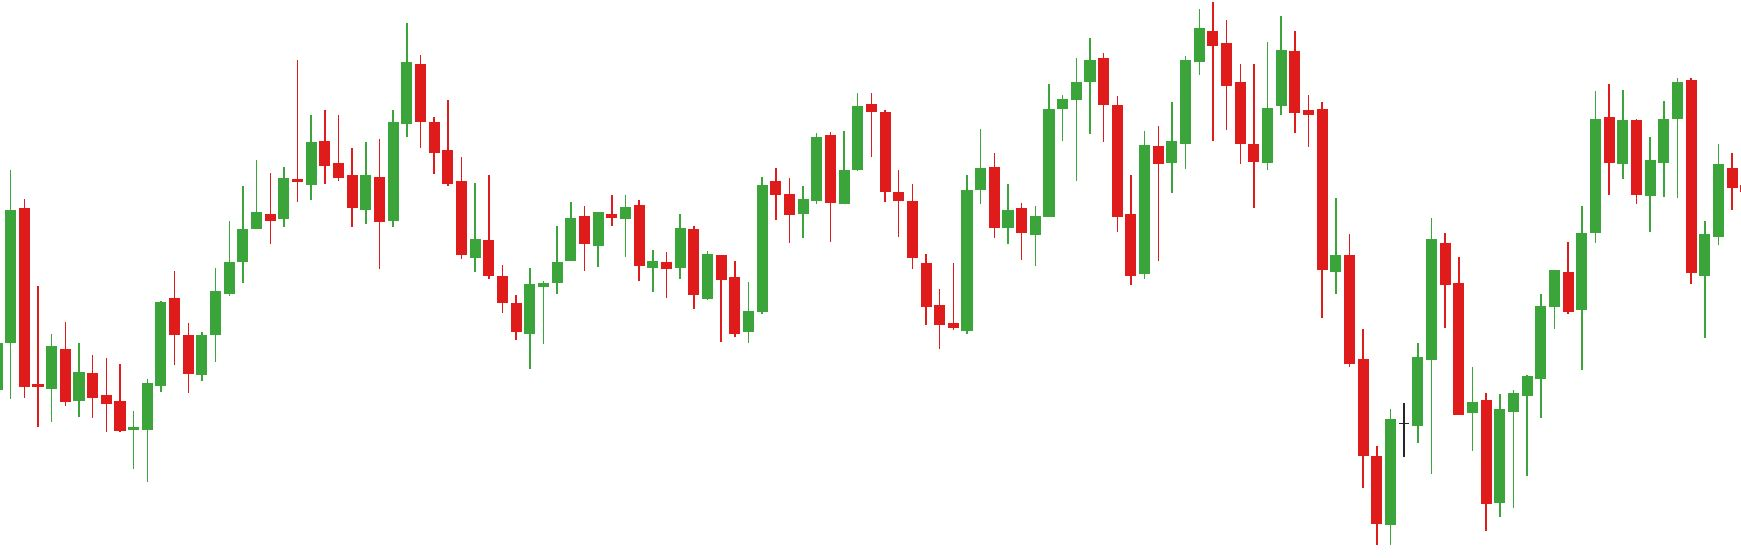buy: (716, 196, 947, 351), (1002, 126, 1153, 287)
sell: (290, 20, 427, 191), (1081, 3, 1232, 116)
